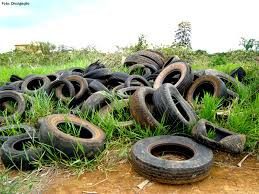tire: (130, 135, 215, 185), (36, 112, 109, 161), (127, 86, 178, 139), (1, 132, 61, 172), (184, 72, 229, 125), (154, 86, 199, 136), (192, 119, 247, 157), (152, 61, 194, 98), (43, 78, 78, 114), (83, 91, 114, 127), (55, 75, 91, 104), (1, 90, 26, 122), (22, 75, 53, 99), (125, 64, 153, 84)
